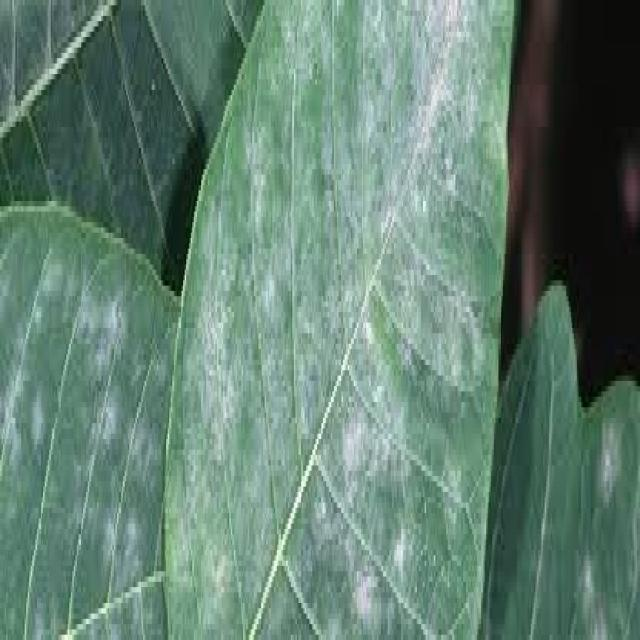powdery_mildew: (201, 43, 537, 586), (9, 85, 170, 640)
